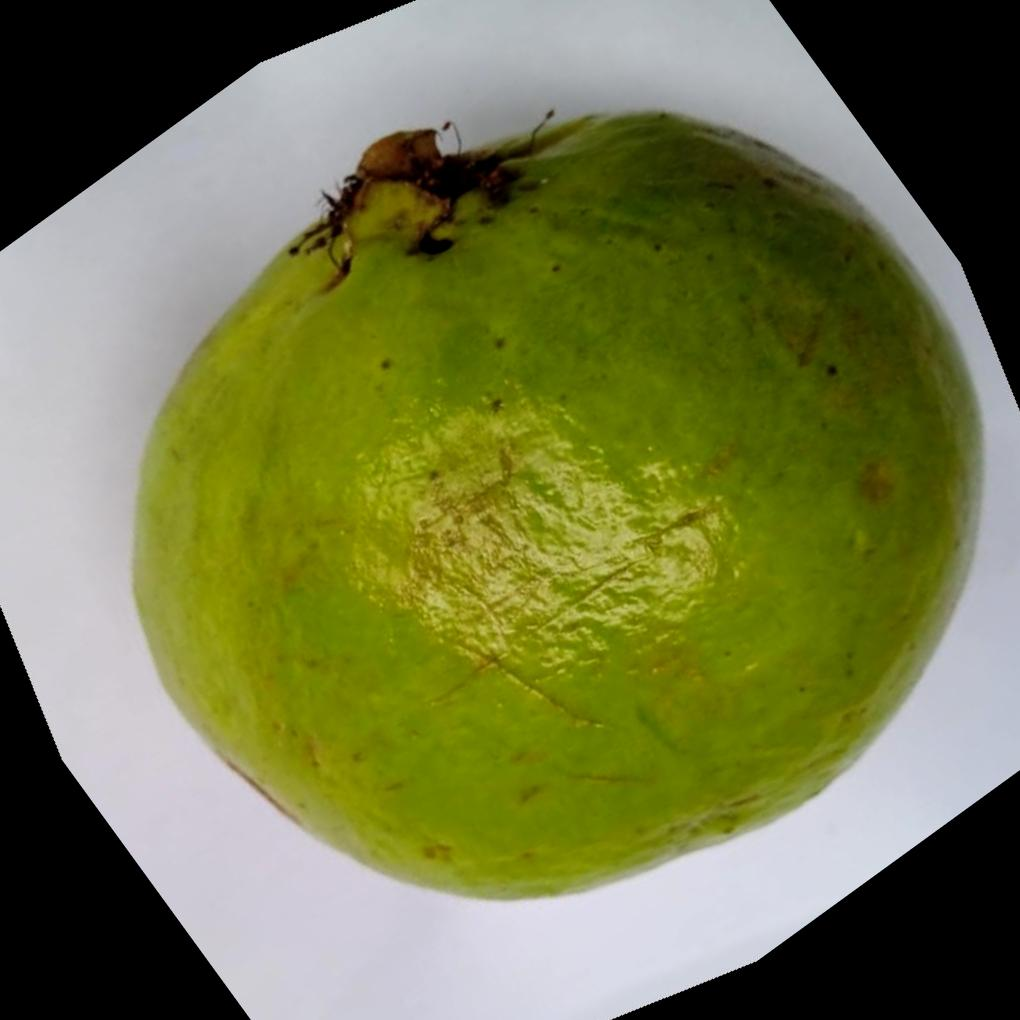FreshGuava: (126, 104, 984, 901)
